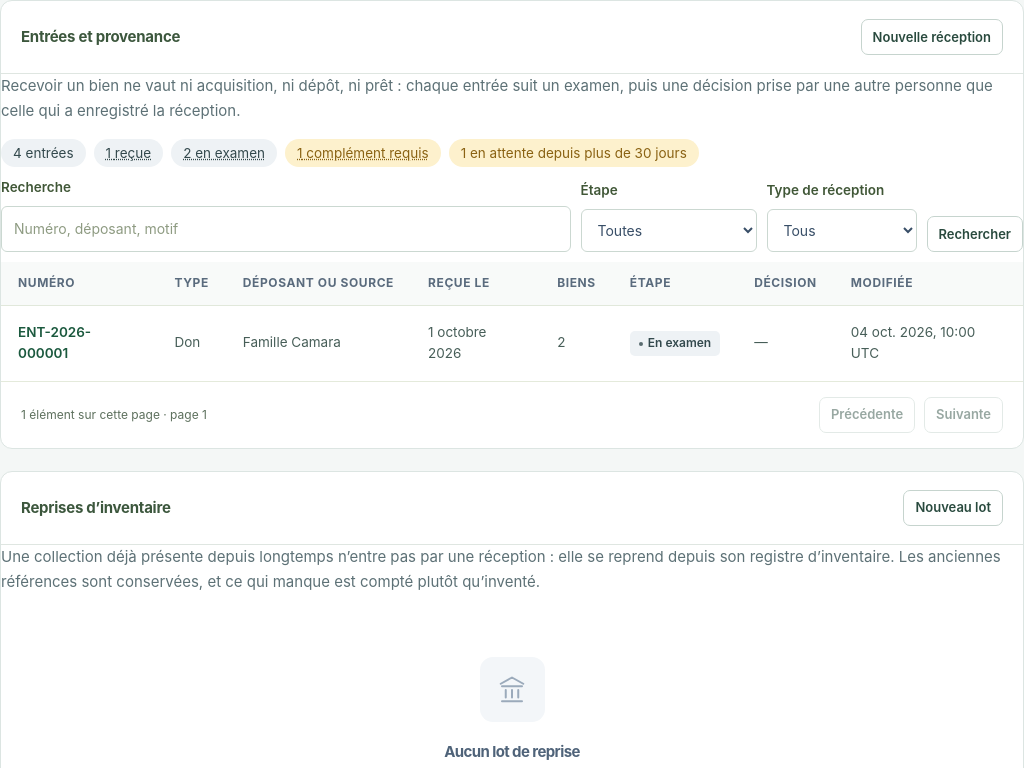
Test: la fiche montre le parcours, la mention de prise en charge et les passages possibles
Click the button "ENT-2026-000001".
click(79, 343)  # box [18,322,140,365]
(page scrolled)
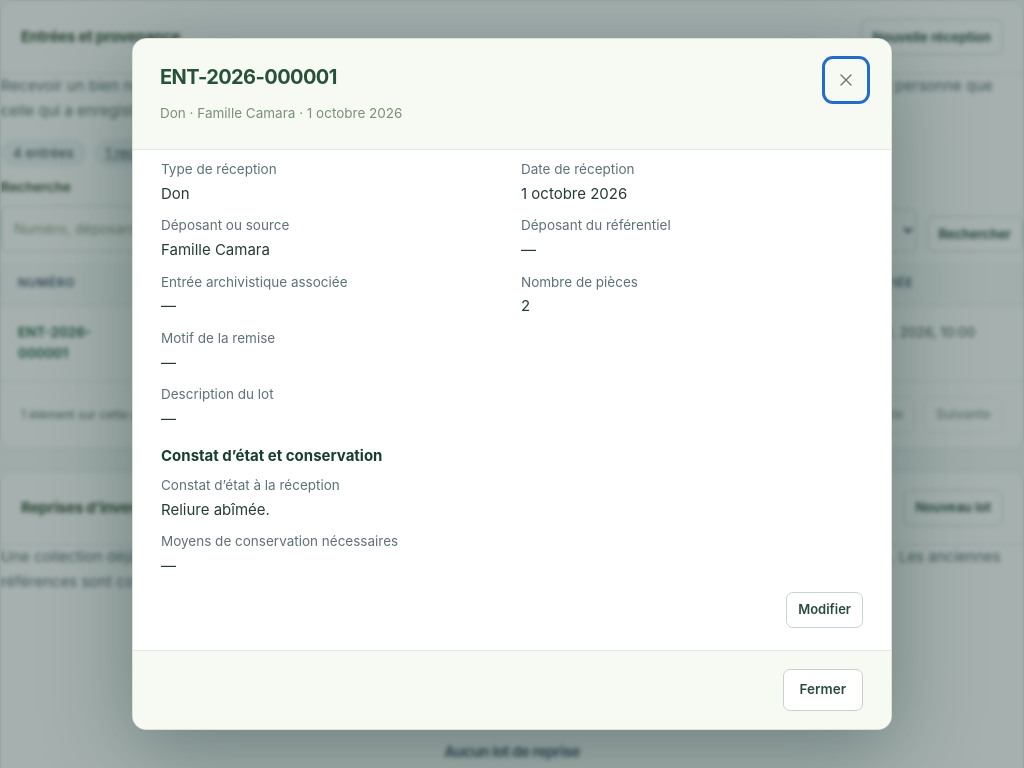
Check: the text "Reliure abîmée." is shown, box [161,500,270,519]
